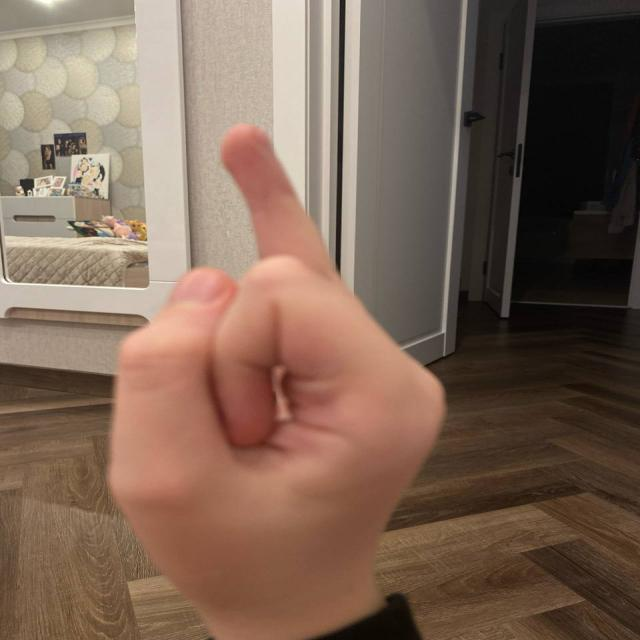i-: (109, 123, 442, 565)
